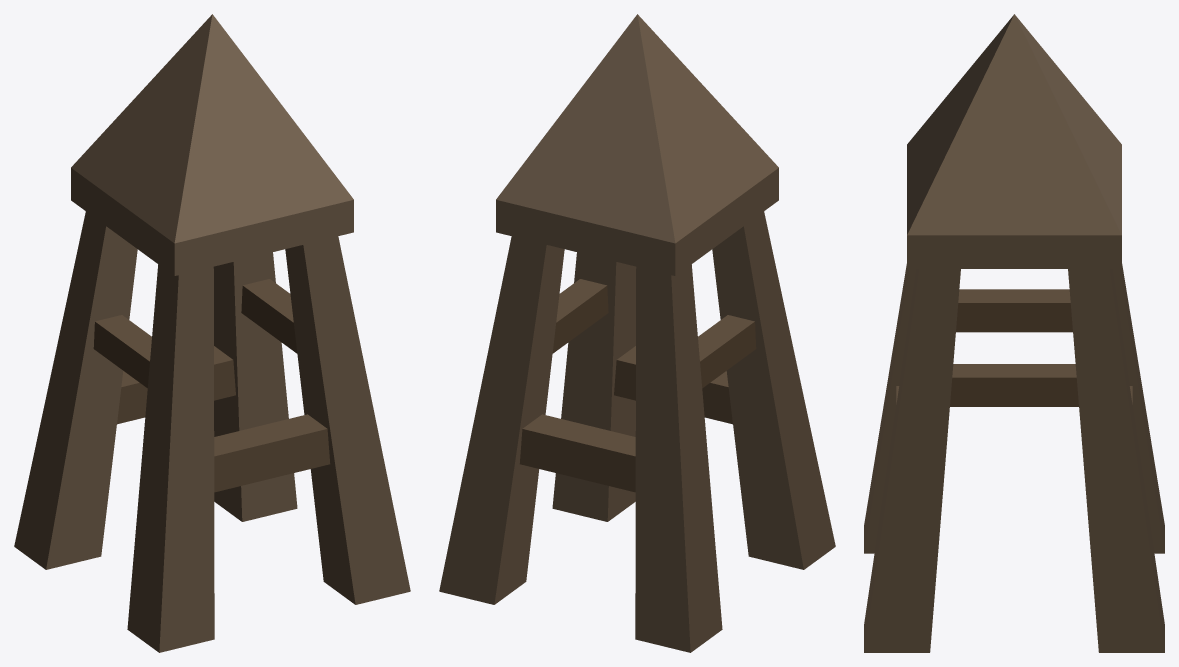
The model's file is SD_Prop_Judas_Cradel_01.fbx.
3 views of the same model, side by side, from view 1: azimuth 30°, elevation 25°; view 2: azimuth 150°, elevation 25°; view 3: azimuth 270°, elevation 25° (orthographic). The views are drawn at different scales.
Parts seen in each view (by area): view 1: SD_Prop_Judas_Cradel_01; view 2: SD_Prop_Judas_Cradel_01; view 3: SD_Prop_Judas_Cradel_01.
Boxes of the visible parts, x1=… form: SD_Prop_Judas_Cradel_01: x1=14, y1=14, x2=410, y2=652; SD_Prop_Judas_Cradel_01: x1=439, y1=14, x2=835, y2=652; SD_Prop_Judas_Cradel_01: x1=864, y1=14, x2=1164, y2=652.
Size of the model in its own units: 1.28 by 2.7 by 1.28.
